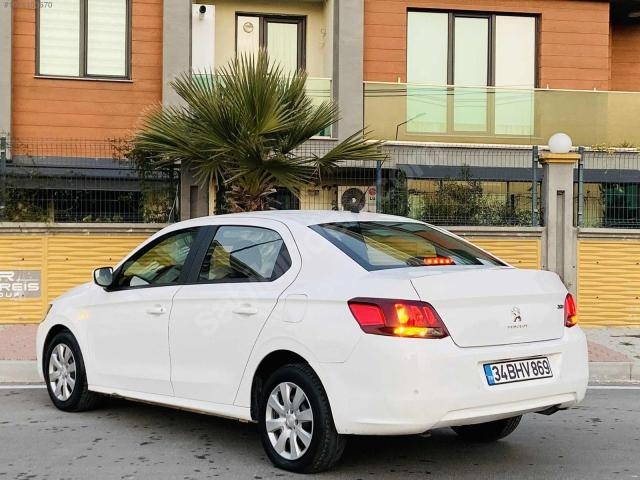plaka: (484, 357, 552, 385)
